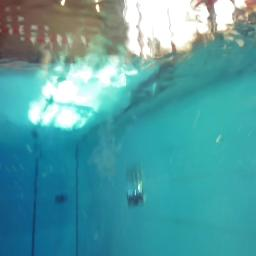Full: (55, 194, 67, 204)
Side: (53, 193, 68, 204)
front: (126, 187, 145, 208), (126, 186, 144, 206)
